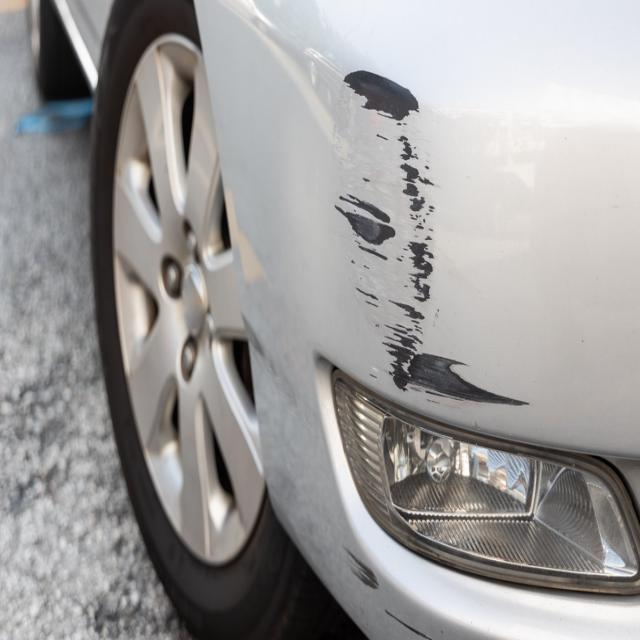scratch: (333, 70, 537, 420), (326, 544, 446, 640)
